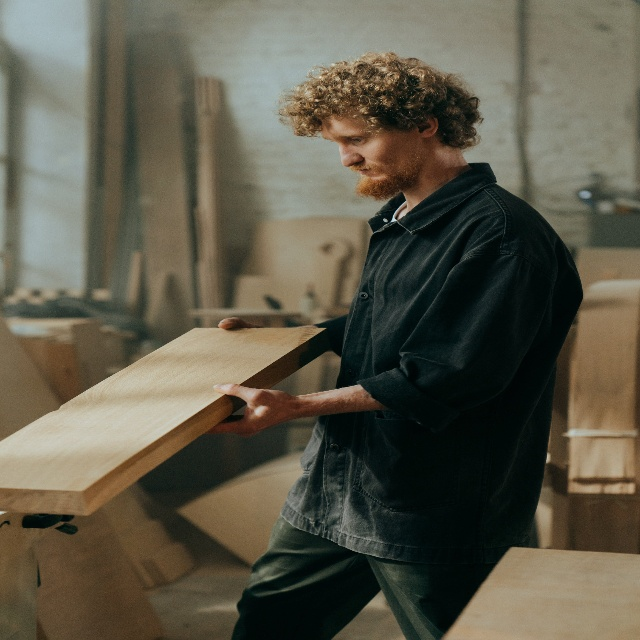Sin_guantes: (207, 377, 294, 444)
